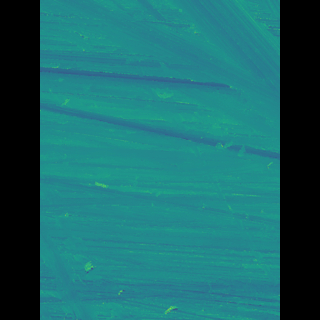Loch: (132, 39, 249, 290), (73, 0, 250, 138), (70, 94, 250, 163)
